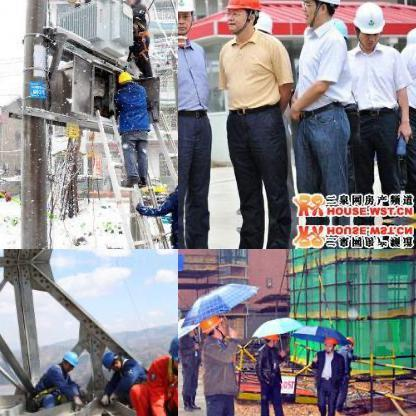Helmet: (353, 0, 386, 49), (223, 0, 263, 32), (300, 0, 344, 26), (198, 315, 226, 339), (178, 0, 197, 34), (60, 348, 80, 372), (167, 329, 177, 373), (100, 349, 124, 367), (115, 68, 133, 86), (264, 330, 280, 346), (322, 334, 336, 352), (342, 330, 354, 348), (123, 0, 143, 4)
